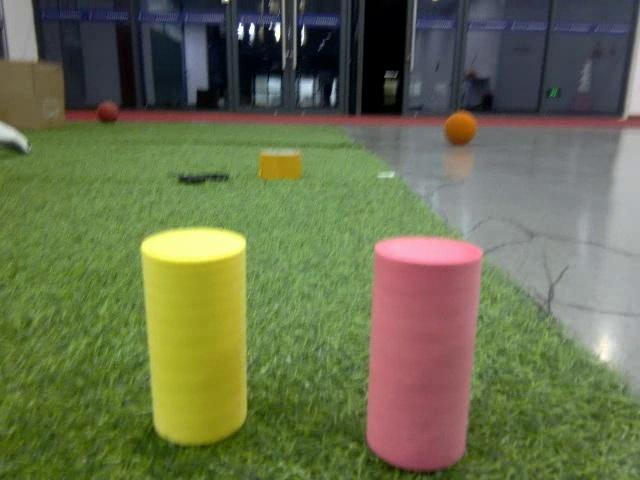orange_ball: (442, 109, 478, 148)
red_ball: (96, 102, 120, 125)
red_cylinder: (367, 231, 482, 473)
yellow_cylinder: (138, 228, 252, 449)
